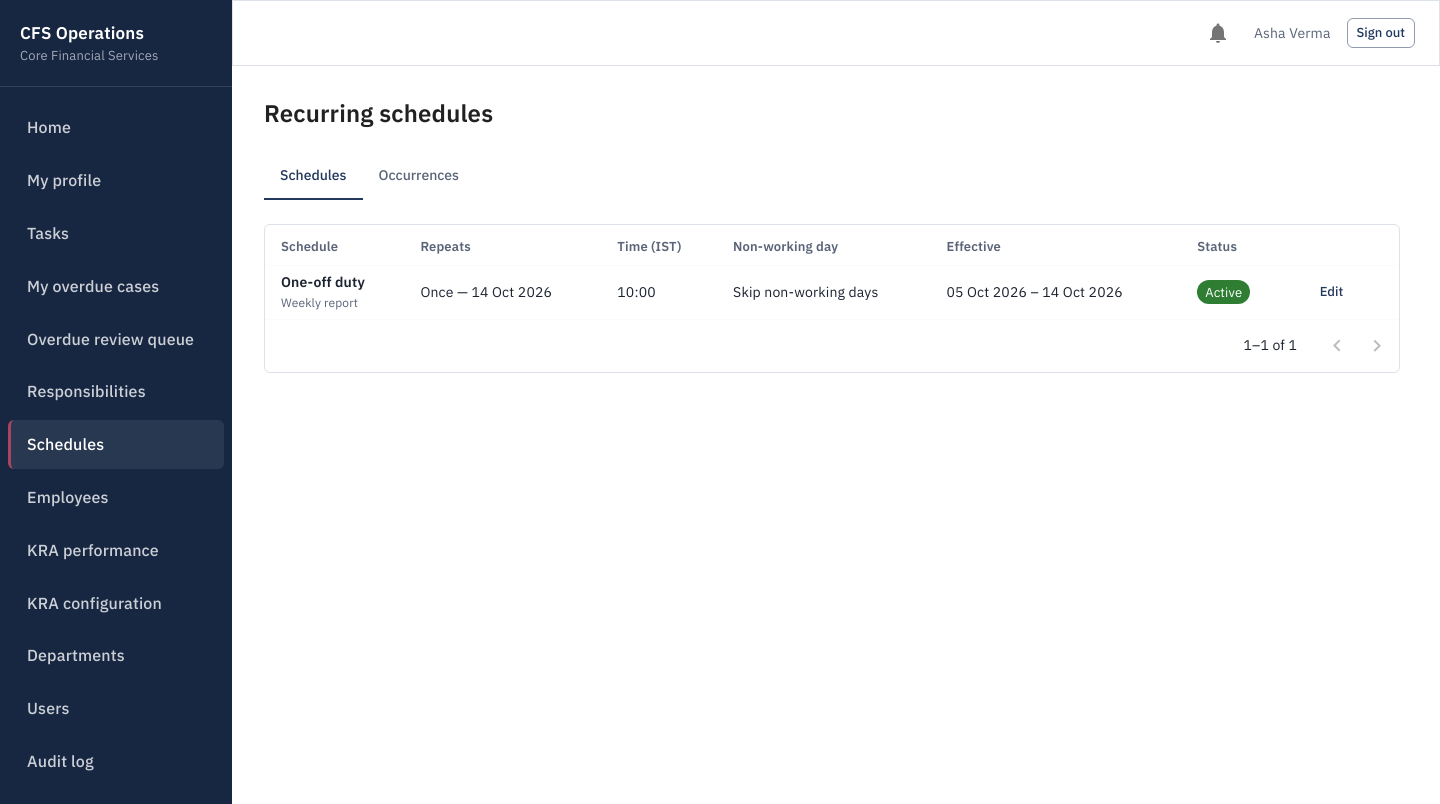
Test: Weekly and specific-date schedules (Phase B) › shows the server's refusal to move an already generated one-off date
The image size is (1440, 804).
Click the button "Edit". click: [1332, 292]
box: [1300,277,1364,308]
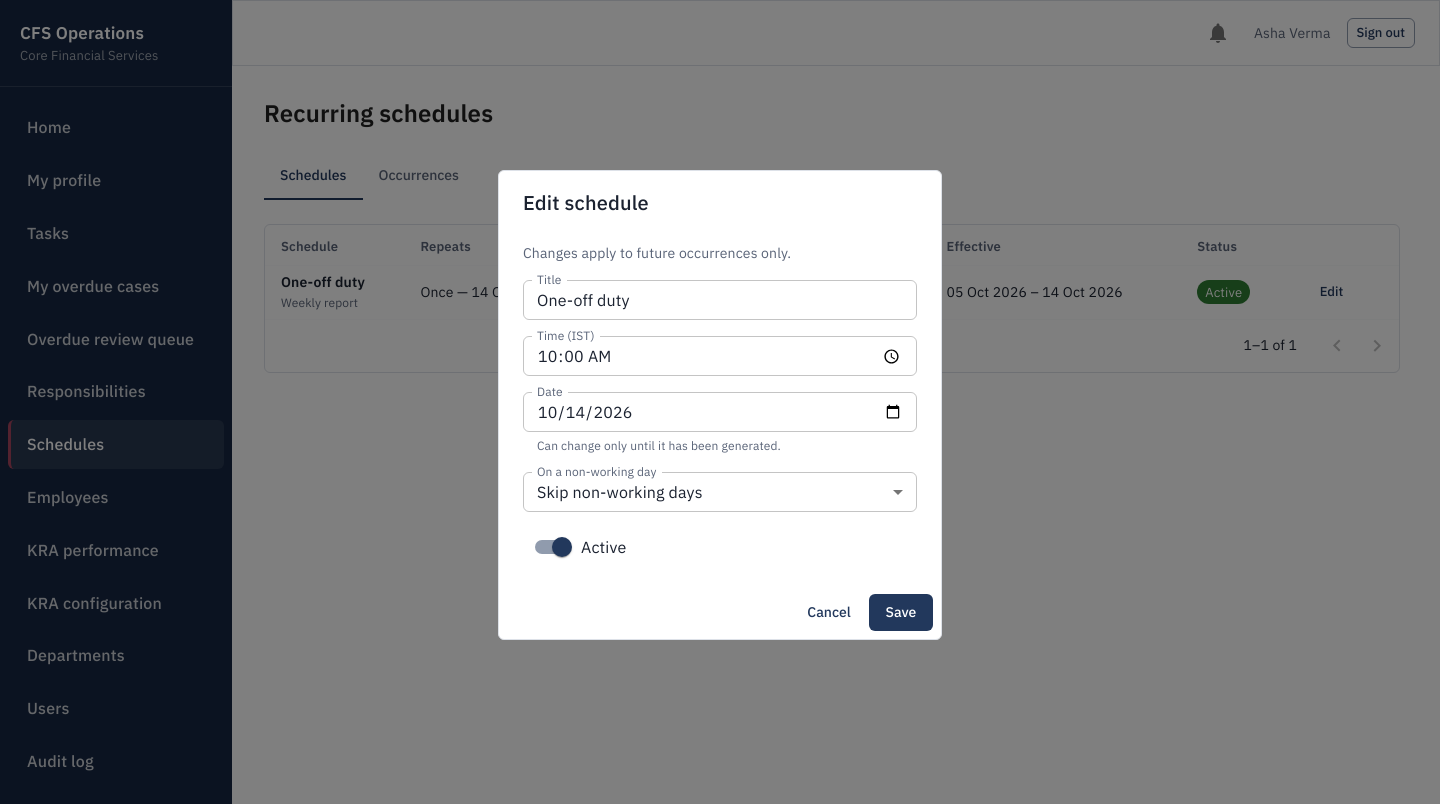
Type "2030-01-20" into the date field labelled "Date". click: [720, 412]
box: [523,392,917,432]
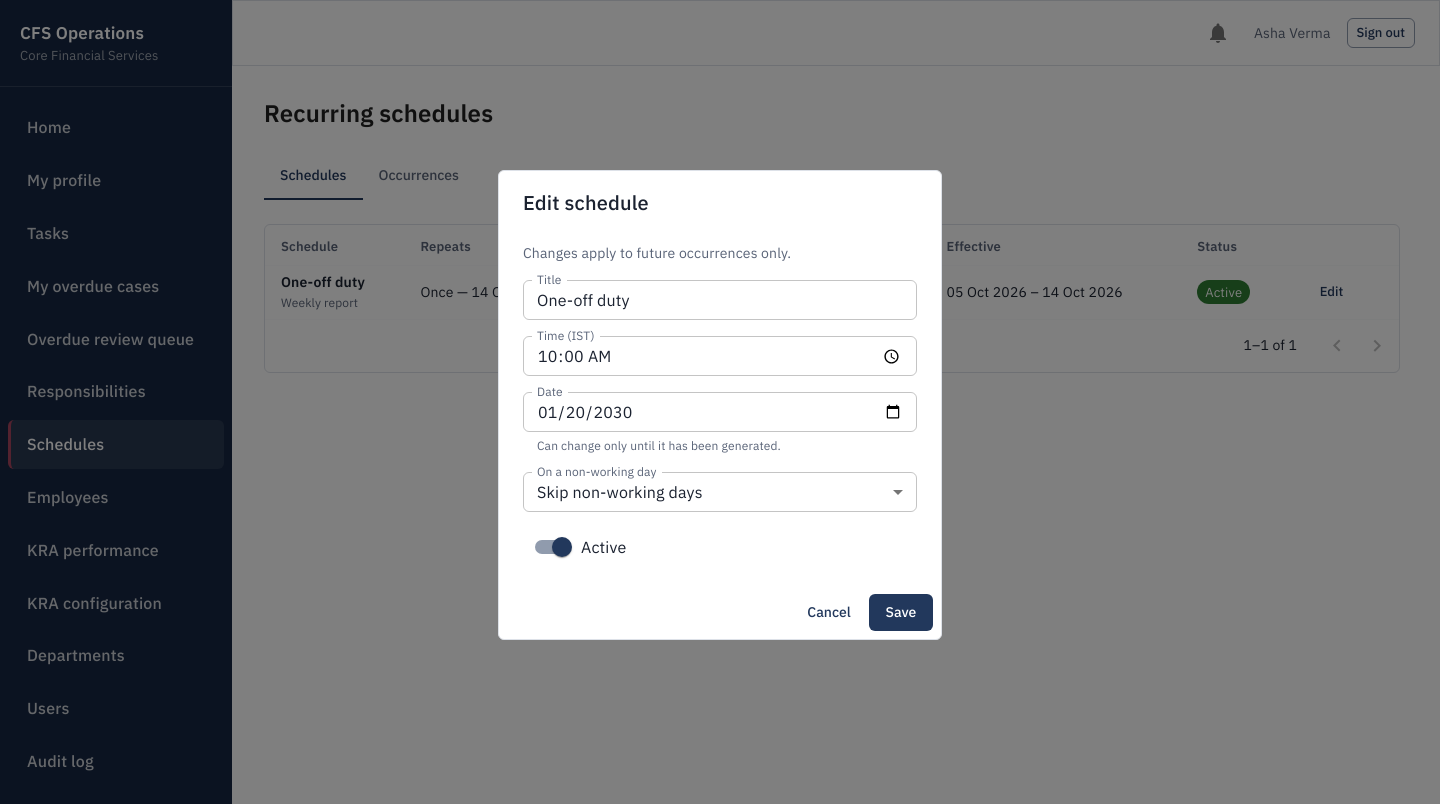
Click the button "Save". click: [901, 612]
box: [869,594,933,631]
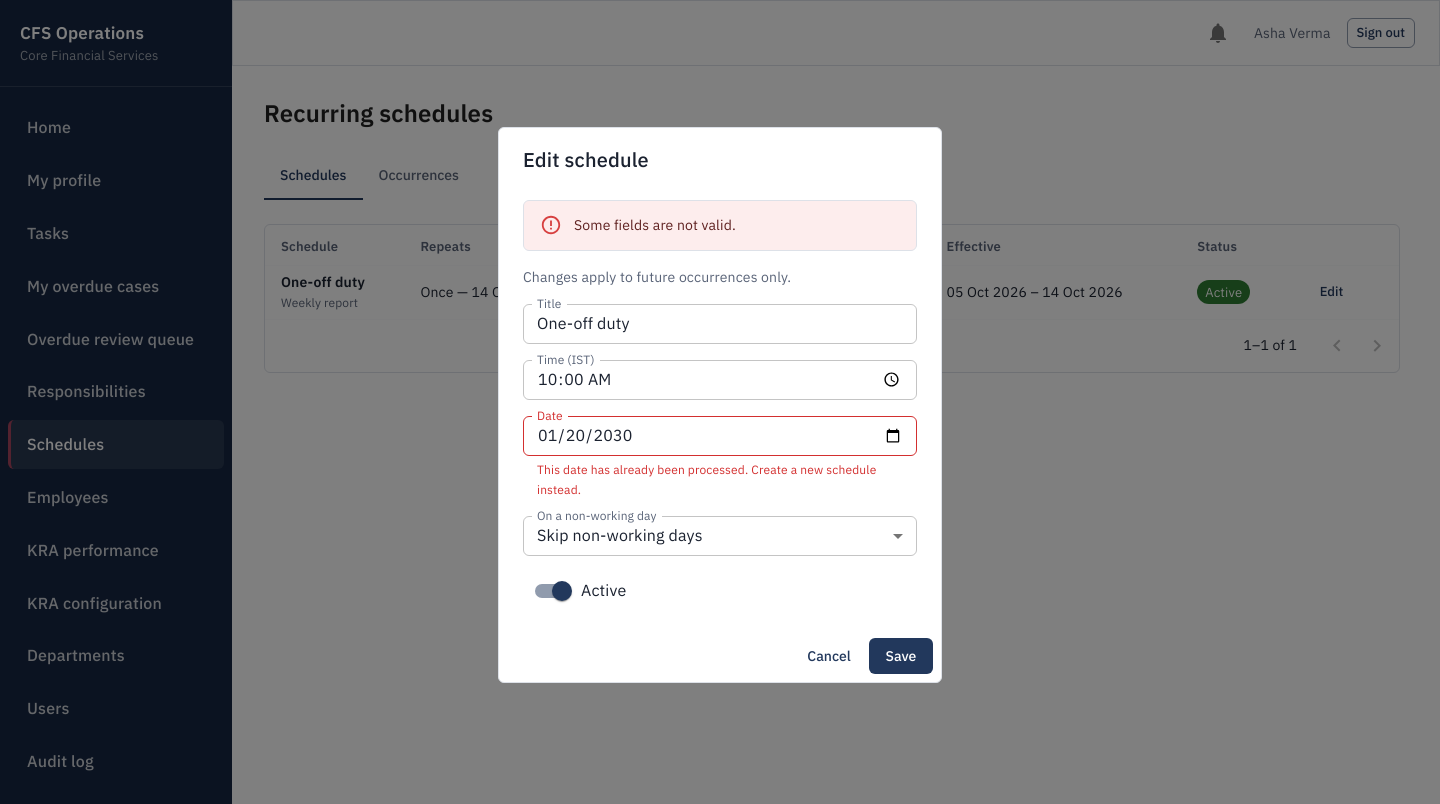
Check: the text "This date has already been processed. Create a new schedule instead." is shown, box [537,460,903,500]
